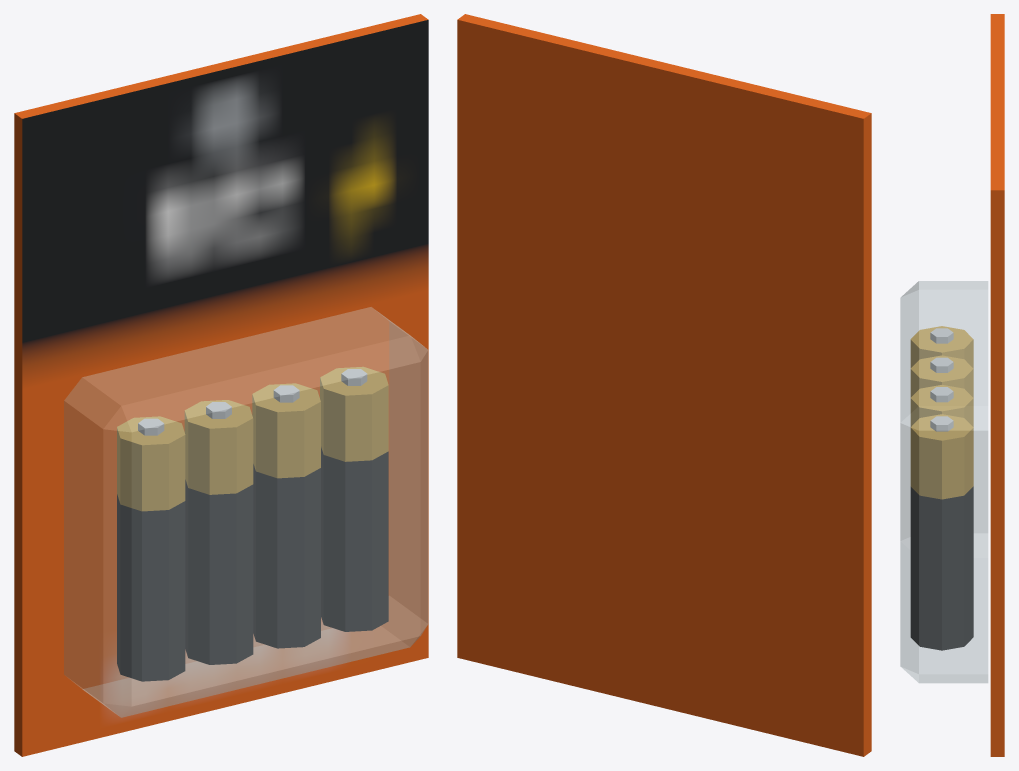
File: SC_Prod_Battery_Pack.gltf
3 renders of one model, left to right at view 1: azimuth 30°, elevation 25°; view 2: azimuth 150°, elevation 25°; view 3: azimuth 270°, elevation 25°, orthographic. The views are drawn at different scales.
Parts seen in each view (by area): view 1: SC_Prod_Battery_Pack; view 2: SC_Prod_Battery_Pack; view 3: SC_Prod_Battery_Pack.
Part boxes in pixels (x1,y1,x2,y2): SC_Prod_Battery_Pack: [14, 14, 428, 756]; SC_Prod_Battery_Pack: [457, 14, 871, 756]; SC_Prod_Battery_Pack: [900, 14, 1004, 756].
Bounding box in the file's own units: 0.09 × 0.135 × 0.0225.
Materials: 3 (3 with a texture image).
